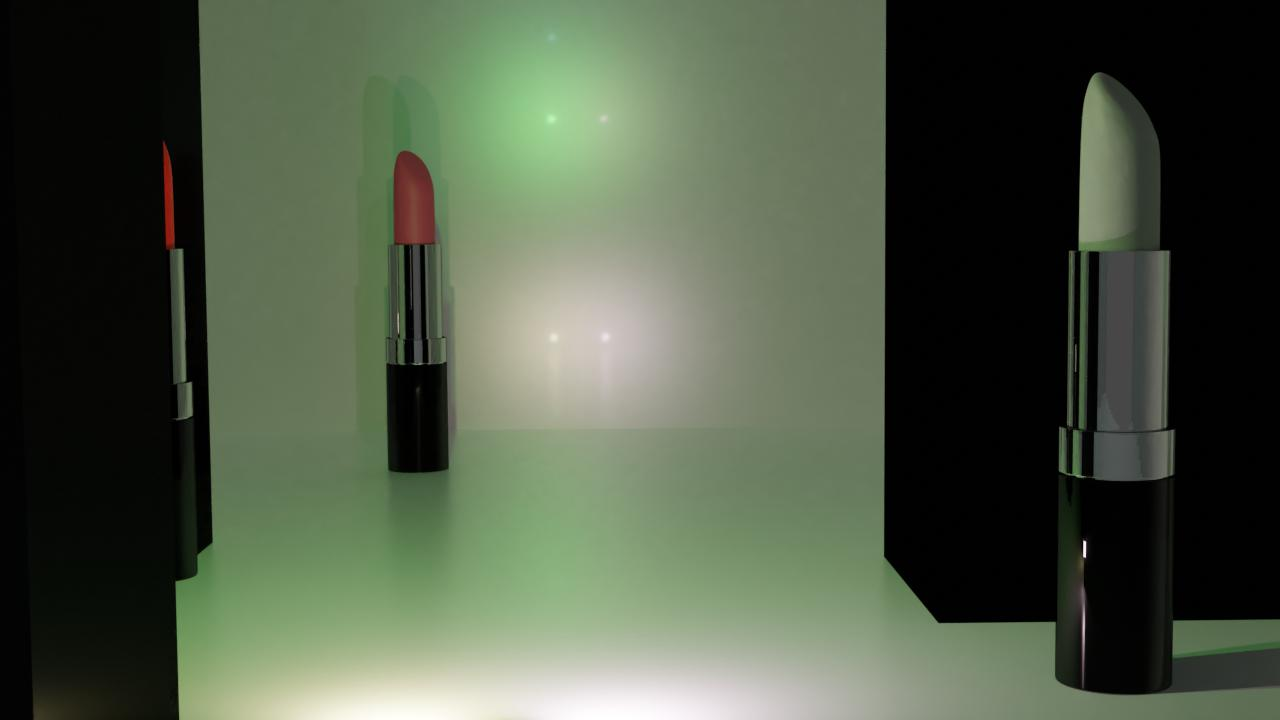CLASSIFIER_NAME: (1052, 65, 1179, 695), (384, 146, 449, 477)
